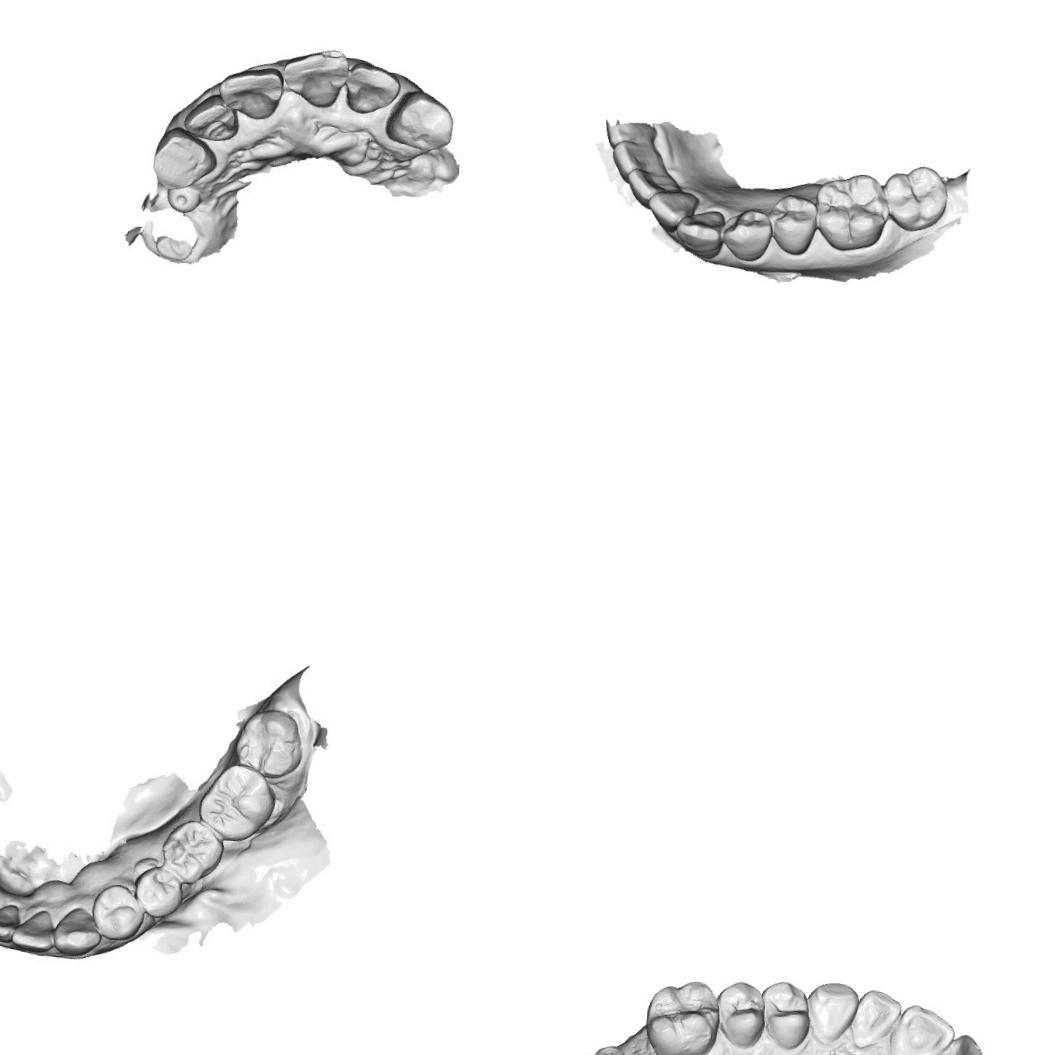canine: (382, 87, 455, 156), (146, 124, 219, 192), (803, 979, 860, 1046), (672, 205, 728, 258), (51, 904, 104, 958)
implant: (163, 186, 202, 217), (589, 1041, 629, 1055)
incisor: (278, 45, 349, 110), (214, 62, 286, 122), (886, 1001, 956, 1055), (341, 58, 402, 116), (849, 987, 904, 1050), (181, 90, 242, 144), (606, 138, 670, 182), (642, 186, 703, 229), (623, 166, 682, 208), (9, 906, 56, 952), (920, 1030, 985, 1055), (0, 900, 20, 945)
molar: (194, 759, 278, 844), (810, 169, 893, 255), (641, 976, 721, 1055), (231, 706, 306, 780), (880, 162, 951, 235), (156, 816, 226, 886)
premolar: (757, 978, 812, 1052), (712, 979, 768, 1050), (87, 881, 146, 943), (766, 190, 818, 258), (718, 204, 774, 264), (130, 865, 186, 920)
